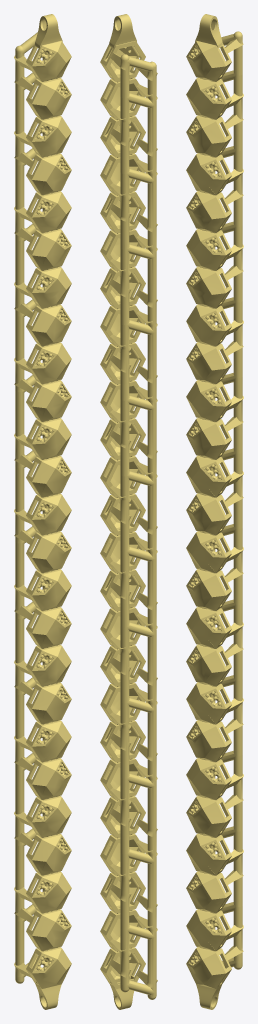
The model's file is yzn5-92_2.glb.
3 views of the same model, side by side, from view 1: azimuth 30°, elevation 25°; view 2: azimuth 210°, elevation 25°; view 3: azimuth 330°, elevation 25° (orthographic).
Visible parts, largest first — view 1: Renderer Node; view 2: Renderer Node; view 3: Renderer Node.
Part boxes in pixels (x1,y1,x2,y2): Renderer Node: [14, 14, 71, 1009]; Renderer Node: [100, 14, 157, 1009]; Renderer Node: [186, 14, 243, 1009].
Size of the model in its own units: 7.65 by 182 by 8.44.
